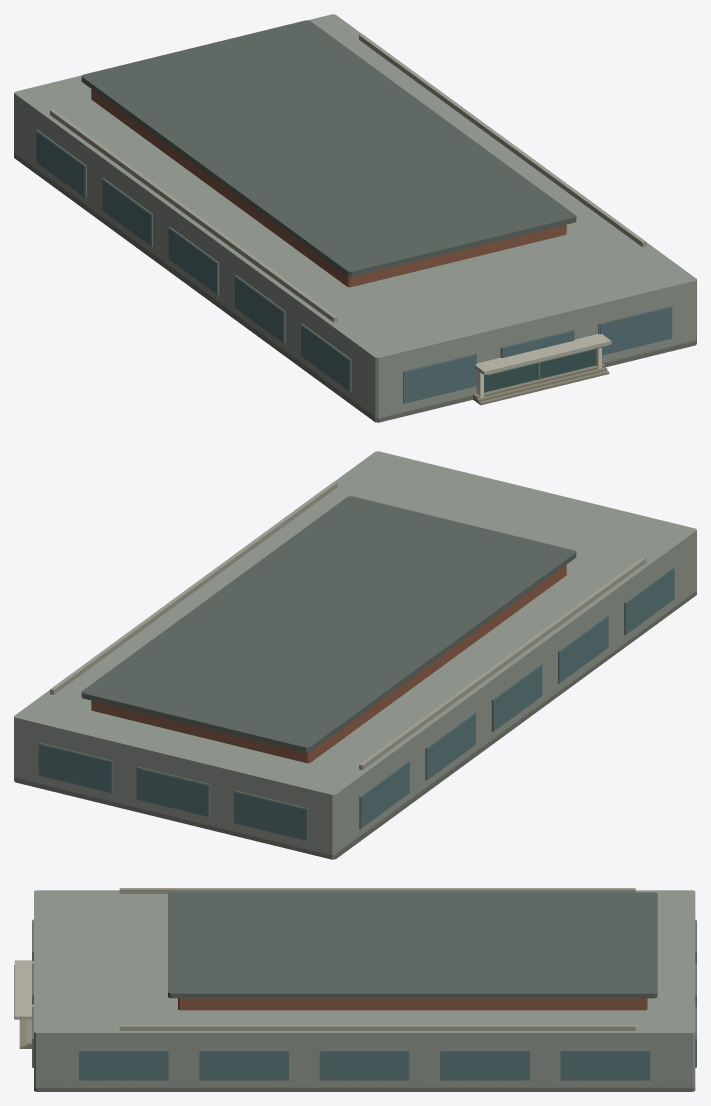
Rendered from library.glb.
3 renders of one model, top to bottom at view 1: azimuth 30°, elevation 25°; view 2: azimuth 150°, elevation 25°; view 3: azimuth 270°, elevation 25°, orthographic. The views are drawn at different scales.
Parts seen in each view (by area): view 1: form, glaze, glowing, relief; view 2: form, glaze, glowing, relief; view 3: form, glaze, relief, glowing.
Boxes of the visible parts, left/top/right/bottom form: form: left=14, top=14, right=696, bottom=422; glaze: left=102, top=180, right=671, bottom=392; glowing: left=36, top=131, right=476, bottom=402; relief: left=36, top=129, right=672, bottom=403; form: left=14, top=451, right=696, bottom=859; glaze: left=137, top=568, right=674, bottom=839; glowing: left=39, top=744, right=409, bottom=827; relief: left=38, top=566, right=674, bottom=840; form: left=14, top=888, right=695, bottom=1091; glaze: left=32, top=921, right=696, bottom=1079; relief: left=14, top=919, right=696, bottom=1080; glowing: left=32, top=921, right=696, bottom=1079.
Size of the model in its own units: 24.25 by 6.09 by 48.54.
